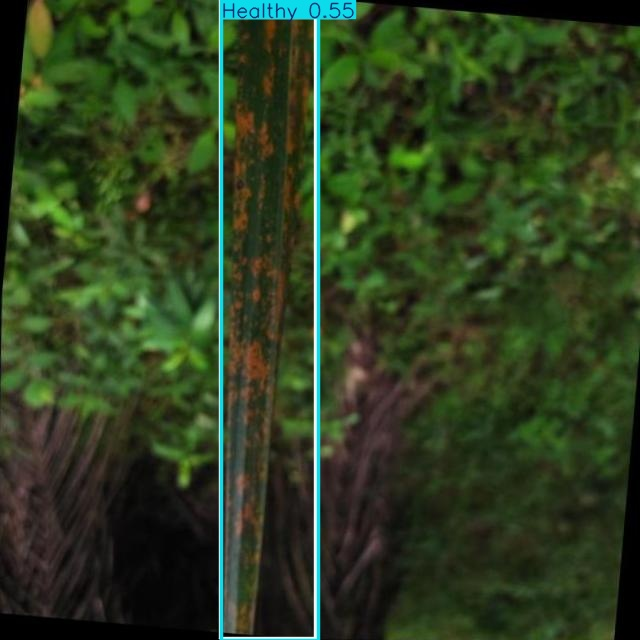Healthy: (222, 0, 318, 640)
Kalium: (220, 0, 315, 639)
